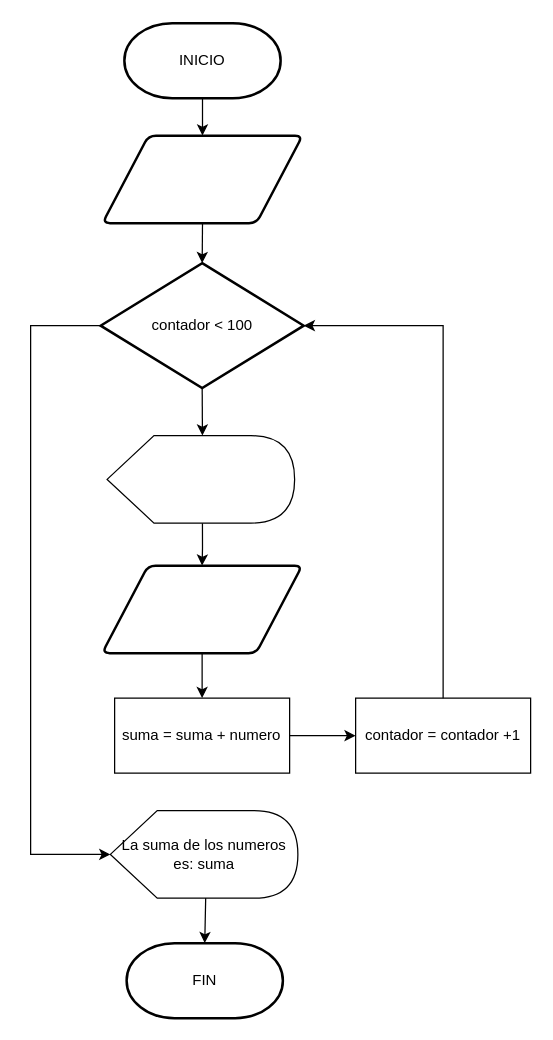
Image size: 553x1040. Some labels were removed from this diagram. The centre of each missing label's shape, as x and y in pixels:
"contador = 0 suma = 0" goes at (202,179).
"Ingrese un numero" goes at (200,478).
"numero" goes at (201,609).
